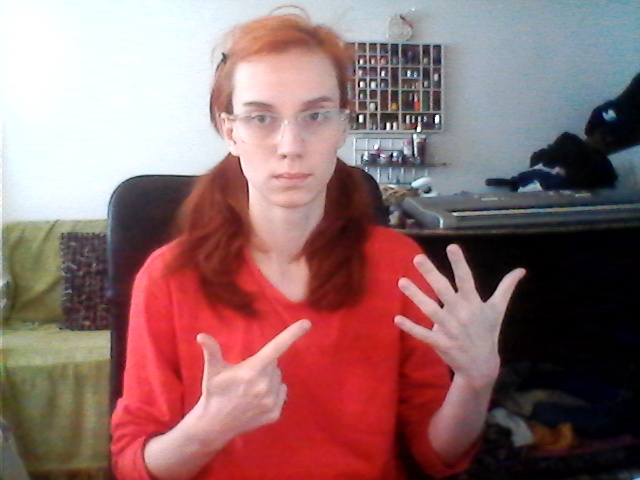sedem: (184, 242, 519, 425)
